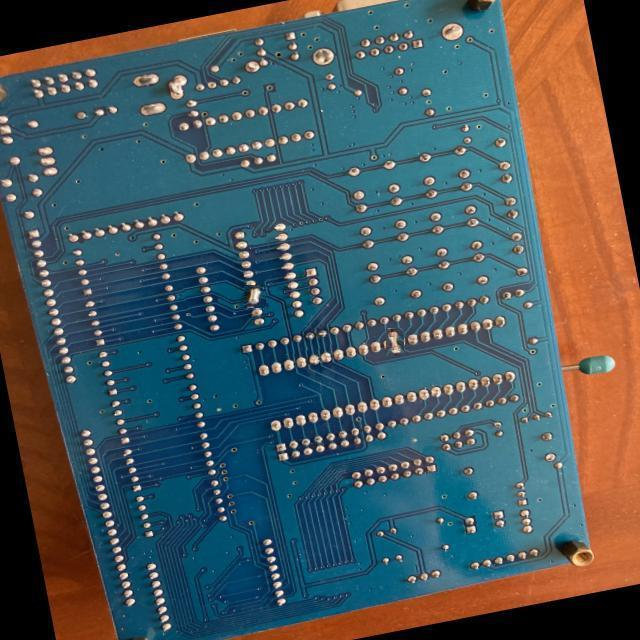damged: (383, 331, 406, 354), (244, 286, 266, 310)
